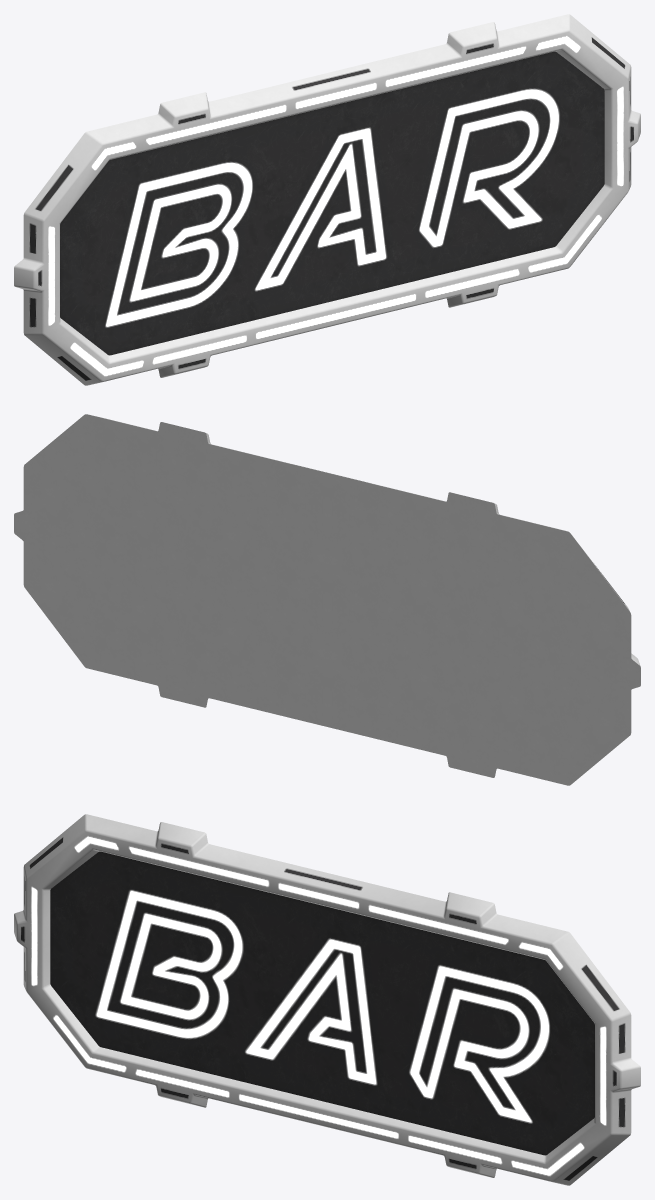
File: BarSign03_1.FBX
The picture shows the model from 3 angles, top to bottom: view 1: azimuth 30°, elevation 25°; view 2: azimuth 150°, elevation 25°; view 3: azimuth 330°, elevation 25°; orthographic projection.
Visible parts, largest first — view 1: BarSign03_1; view 2: BarSign03_1; view 3: BarSign03_1.
Part boxes in pixels (x1,y1,x2,y2): BarSign03_1: (14, 14, 640, 385); BarSign03_1: (14, 414, 640, 785); BarSign03_1: (14, 814, 640, 1185).
Size of what is drawn, in the model's own units: 1.98 by 0.8316 by 0.0472.
